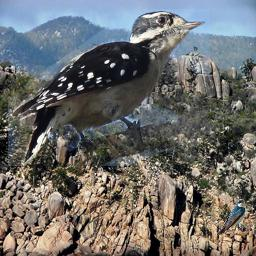Swallow: (215, 198, 247, 236)
Woodpecker: (8, 9, 210, 166)
